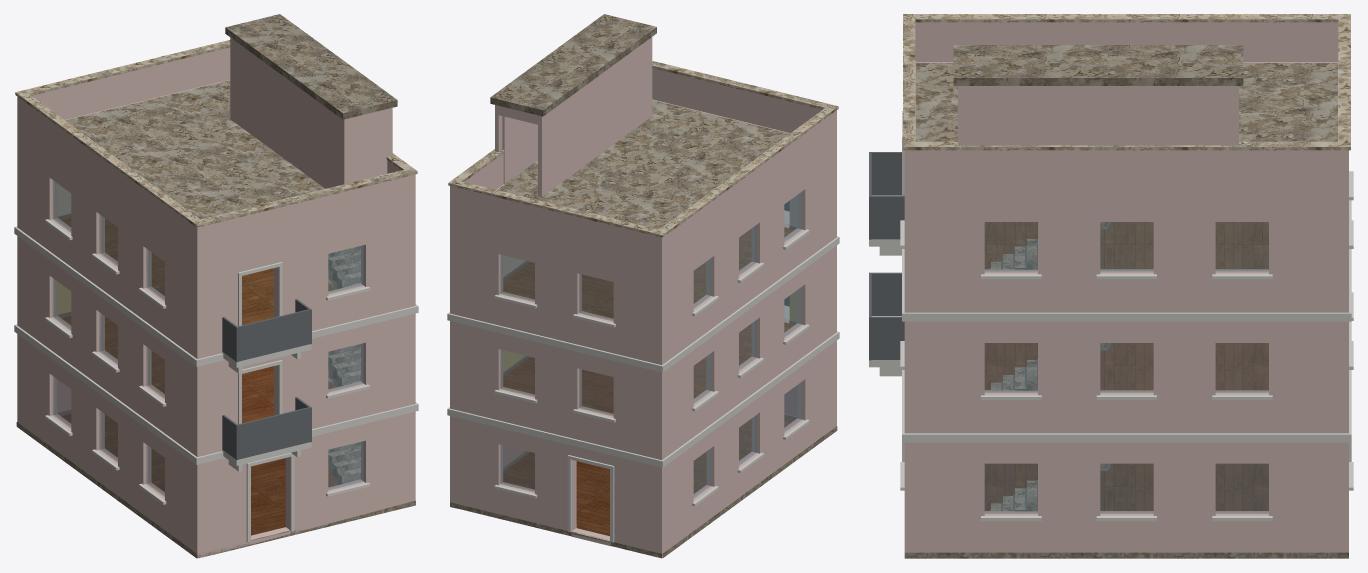
Rendered from bay-townhouse-pink.zfix-v7.lod0.glb.
The picture shows the model from 3 angles, left to right: view 1: azimuth 30°, elevation 25°; view 2: azimuth 150°, elevation 25°; view 3: azimuth 270°, elevation 25°; orthographic projection. The views are drawn at different scales.
Visible parts, largest first — view 1: bay-townhouse-pink; view 2: bay-townhouse-pink; view 3: bay-townhouse-pink.
Boxes of the visible parts, x1=… form: bay-townhouse-pink: x1=14, y1=14, x2=418, y2=558; bay-townhouse-pink: x1=447, y1=14, x2=839, y2=558; bay-townhouse-pink: x1=869, y1=14, x2=1353, y2=558.
Bounding box in the file's own units: 7.2 × 11.96 × 10.91.
4 materials, 2 textured.
